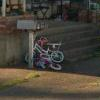Bicycle: (21, 33, 65, 77)
